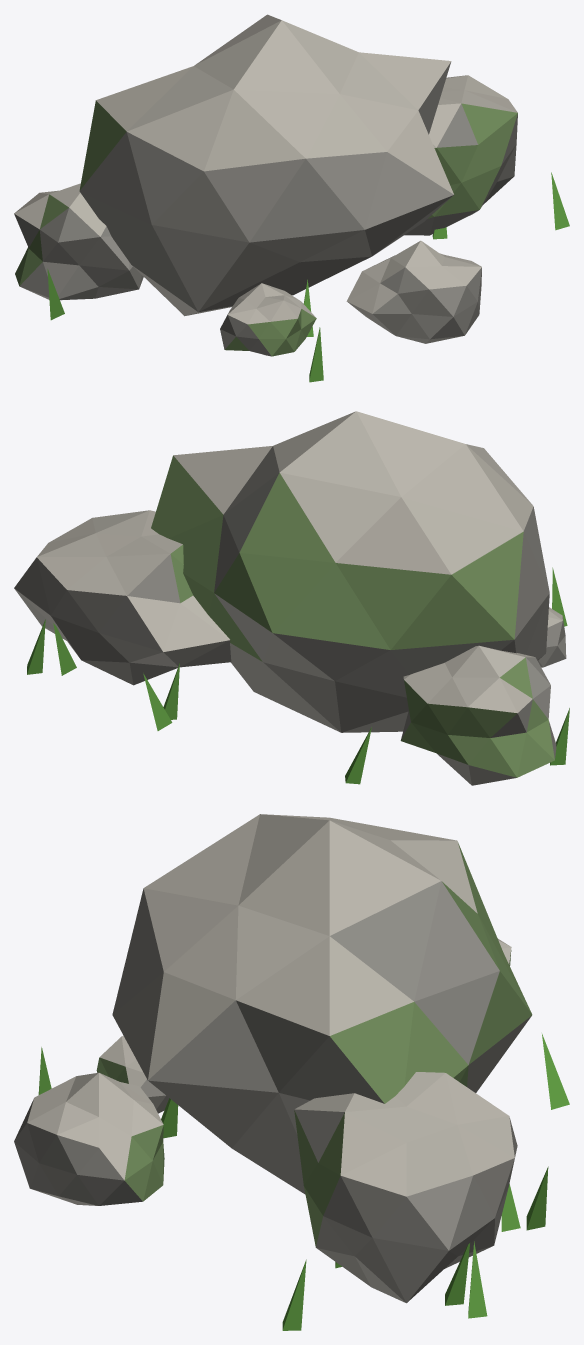
The model's file is nat_rock_cluster_v01.glb.
3 renders of one model, top to bottom at view 1: azimuth 30°, elevation 25°; view 2: azimuth 150°, elevation 25°; view 3: azimuth 270°, elevation 25°, orthographic. The views are drawn at different scales.
Parts seen in each view (by area): view 1: rock_cluster; view 2: rock_cluster; view 3: rock_cluster.
Part boxes in pixels (x1=…): rock_cluster: x1=14, y1=14, x2=569, y2=382; rock_cluster: x1=14, y1=411, x2=569, y2=785; rock_cluster: x1=14, y1=814, x2=569, y2=1330.
Bounding box in the file's own units: 2.91 × 1.55 × 2.17.
